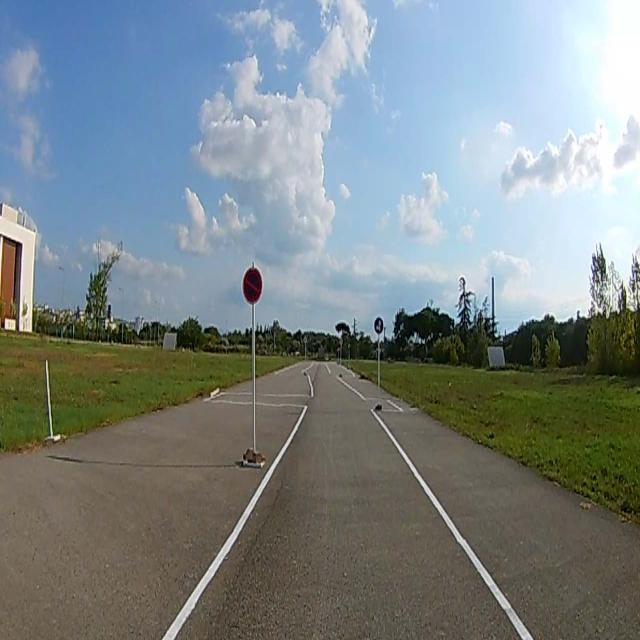parkyasak: (241, 270, 262, 302)
